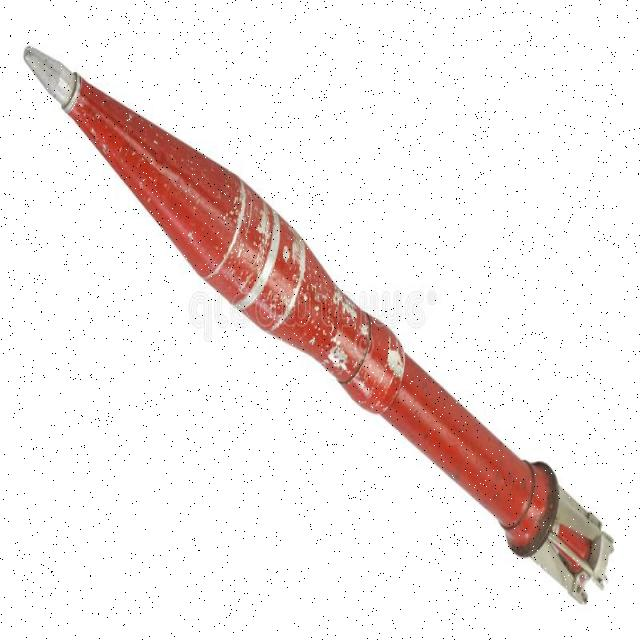bazooka: (12, 24, 616, 609)
